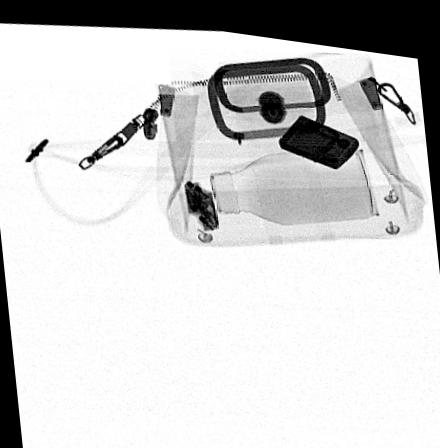Lighter: (278, 104, 358, 159)
